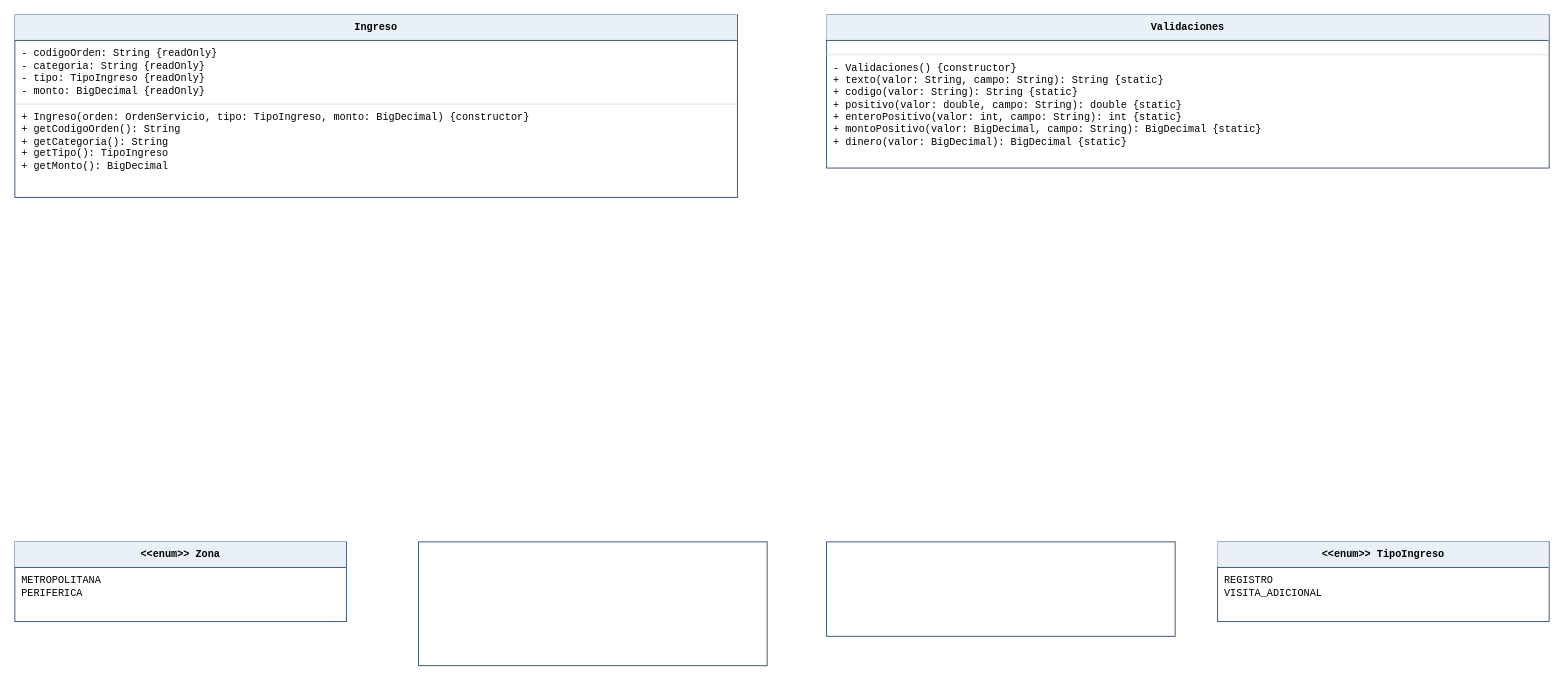
The diagram is 1564 pixels wide and 681 high, and some of its shapes have lost their labels. The centre of each missing label's shape, as x and y in pixels:
<<enum>> EstadoJornada PREPARACION EN_CURSO CERRADA: point 1000,588
<<enum>> EstadoOrden PENDIENTE ASIGNADA EN_ATENCION COMPLETADA CANCELADA: point 592,603
